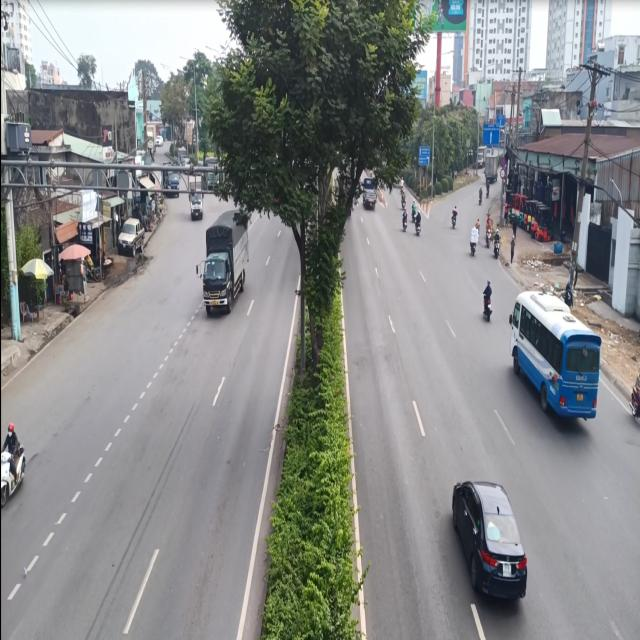bus: (508, 280, 606, 440)
car: (451, 466, 536, 611)
motor: (1, 419, 29, 518), (479, 278, 498, 341)
truck: (198, 202, 251, 320)
